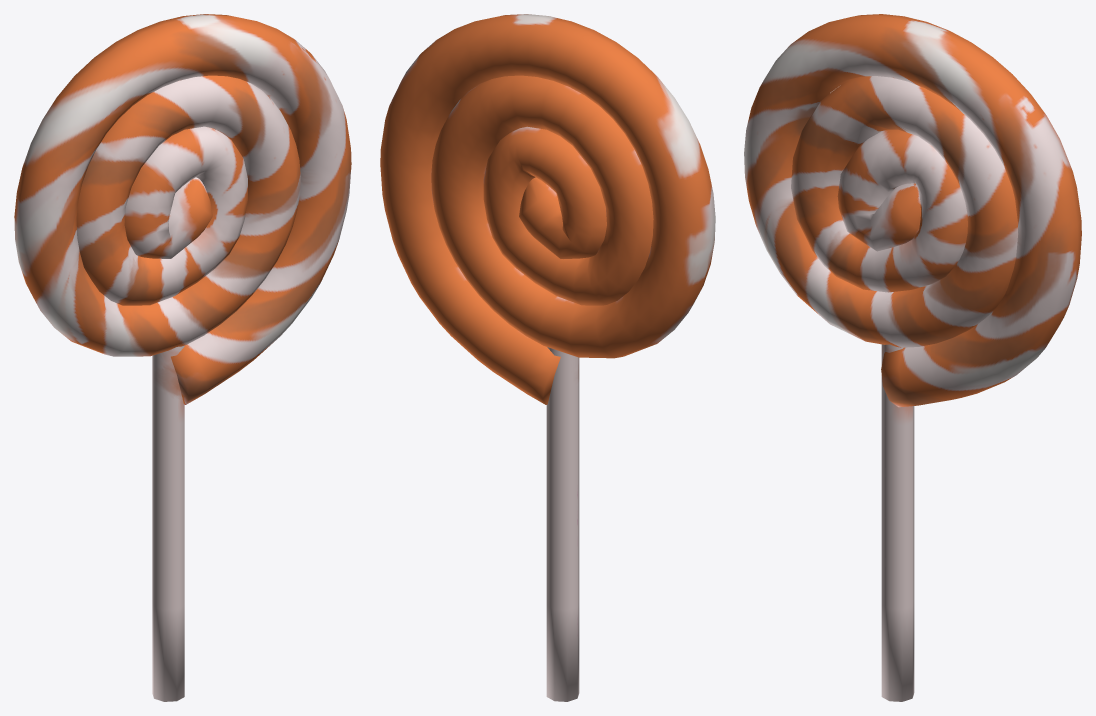
File: ship4.fbx
3 renders of one model, left to right at view 1: azimuth 30°, elevation 25°; view 2: azimuth 150°, elevation 25°; view 3: azimuth 330°, elevation 25°, orthographic.
Parts seen in each view (by area): view 1: ship_014; view 2: ship_014; view 3: ship_014.
Part boxes in pixels (x1,y1,x2,y2): ship_014: [14, 14, 351, 701]; ship_014: [380, 14, 715, 701]; ship_014: [744, 14, 1081, 701].
Size of the model in its own units: 122 by 238 by 21.49.
